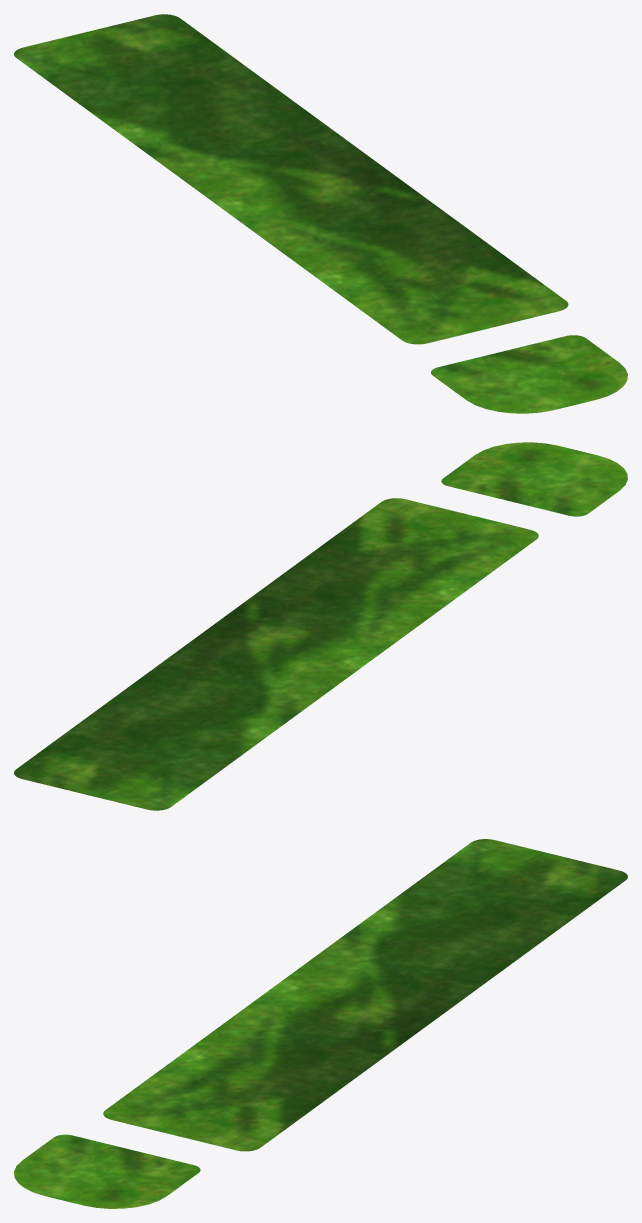
The model's file is green05.obj.
The picture shows the model from 3 angles, top to bottom: view 1: azimuth 30°, elevation 25°; view 2: azimuth 150°, elevation 25°; view 3: azimuth 330°, elevation 25°; orthographic projection. The views are drawn at different scales.
Parts seen in each view (by area): view 1: green05; view 2: green05; view 3: green05.
Part boxes in pixels (box(x1,y1,x2,y2)): green05: box(14, 14, 627, 413); green05: box(14, 442, 627, 810); green05: box(14, 839, 627, 1208).
Bounding box in the file's own units: 72.02 × 0.3302 × 357.
Materials: 1 (1 with a texture image).
